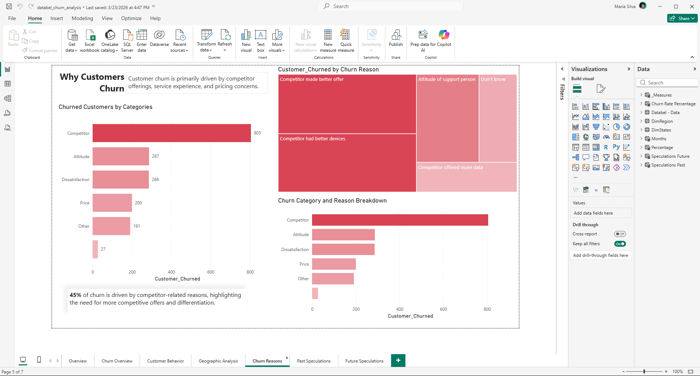

The dashboard page shown, as its layout file describes it:
{"tool":"powerbi","page":{"name":"Churn Reasons","canvas":[1280,720],"ordinal":8},"visuals":[{"type":"clusteredBarChart","fields":{"Category":["Databel - Data.Churn Category"],"Y":["Databel - Data.Churned Customers"]},"box":[10.2,0,364.3,326.8],"z":0},{"type":"clusteredBarChart","fields":{"Y":["Databel - Data.Churned Customers","_Measures.ServiceCallsAverage"],"Category":["Databel - Data.Churn Reason"]},"box":[552.6,0,727.4,720.6],"z":1000},{"type":"filledMap","fields":{"Category":["DimStates.StateLongName"]},"box":[25,359.7,505,360.9],"z":2000},{"type":"cardVisual","title":"Service Calls Avg","fields":{"Data":["_Measures.ServiceCallsAverage"]},"box":[374.5,28.4,155.5,135],"z":3000},{"type":"cardVisual","title":"Churners Service Calls Avg","fields":{"Data":["_Measures.ServiceCallsAverage"]},"box":[374.5,191.8,155.5,135],"z":4000}]}

Visuals, with their boxes on the page's 1280x720 design canvas (x1, y1, x2, y2). These are canvas units, not pixel positions in the 700x376 screenshot, which may show the page scaled, cropped or inside an application window:
clusteredBarChart - Databel - Data.Churn Category x Databel - Data.Churned Customers: bbox=[10, 0, 374, 327]
clusteredBarChart - Databel - Data.Churned Customers x _Measures.ServiceCallsAverage: bbox=[553, 0, 1280, 721]
filledMap - DimStates.StateLongName: bbox=[25, 360, 530, 721]
"Service Calls Avg" cardVisual: bbox=[374, 28, 530, 163]
"Churners Service Calls Avg" cardVisual: bbox=[374, 192, 530, 327]
